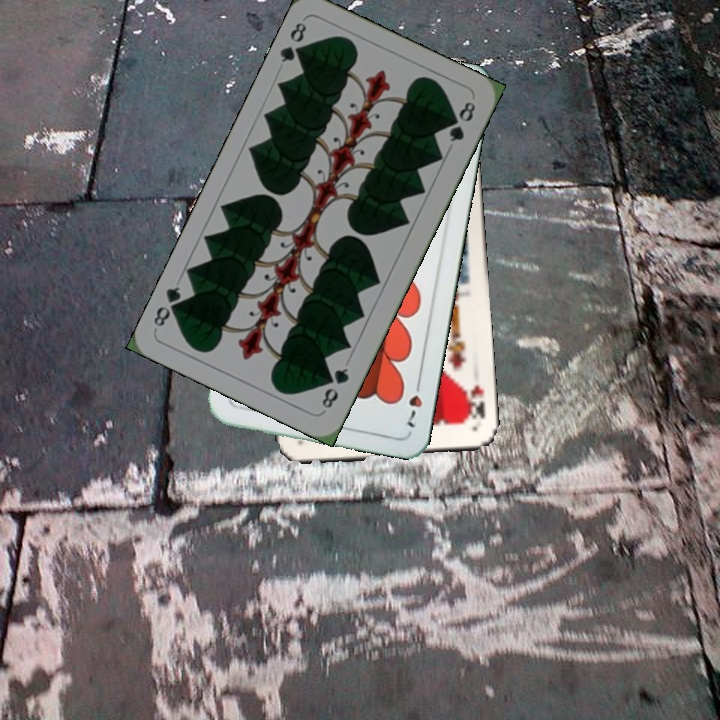G8: (317, 364, 352, 411), (275, 18, 309, 65)
H7: (402, 374, 425, 430)
HK: (461, 380, 488, 422)
